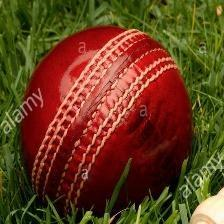Sports-Ball: (16, 25, 197, 209)
